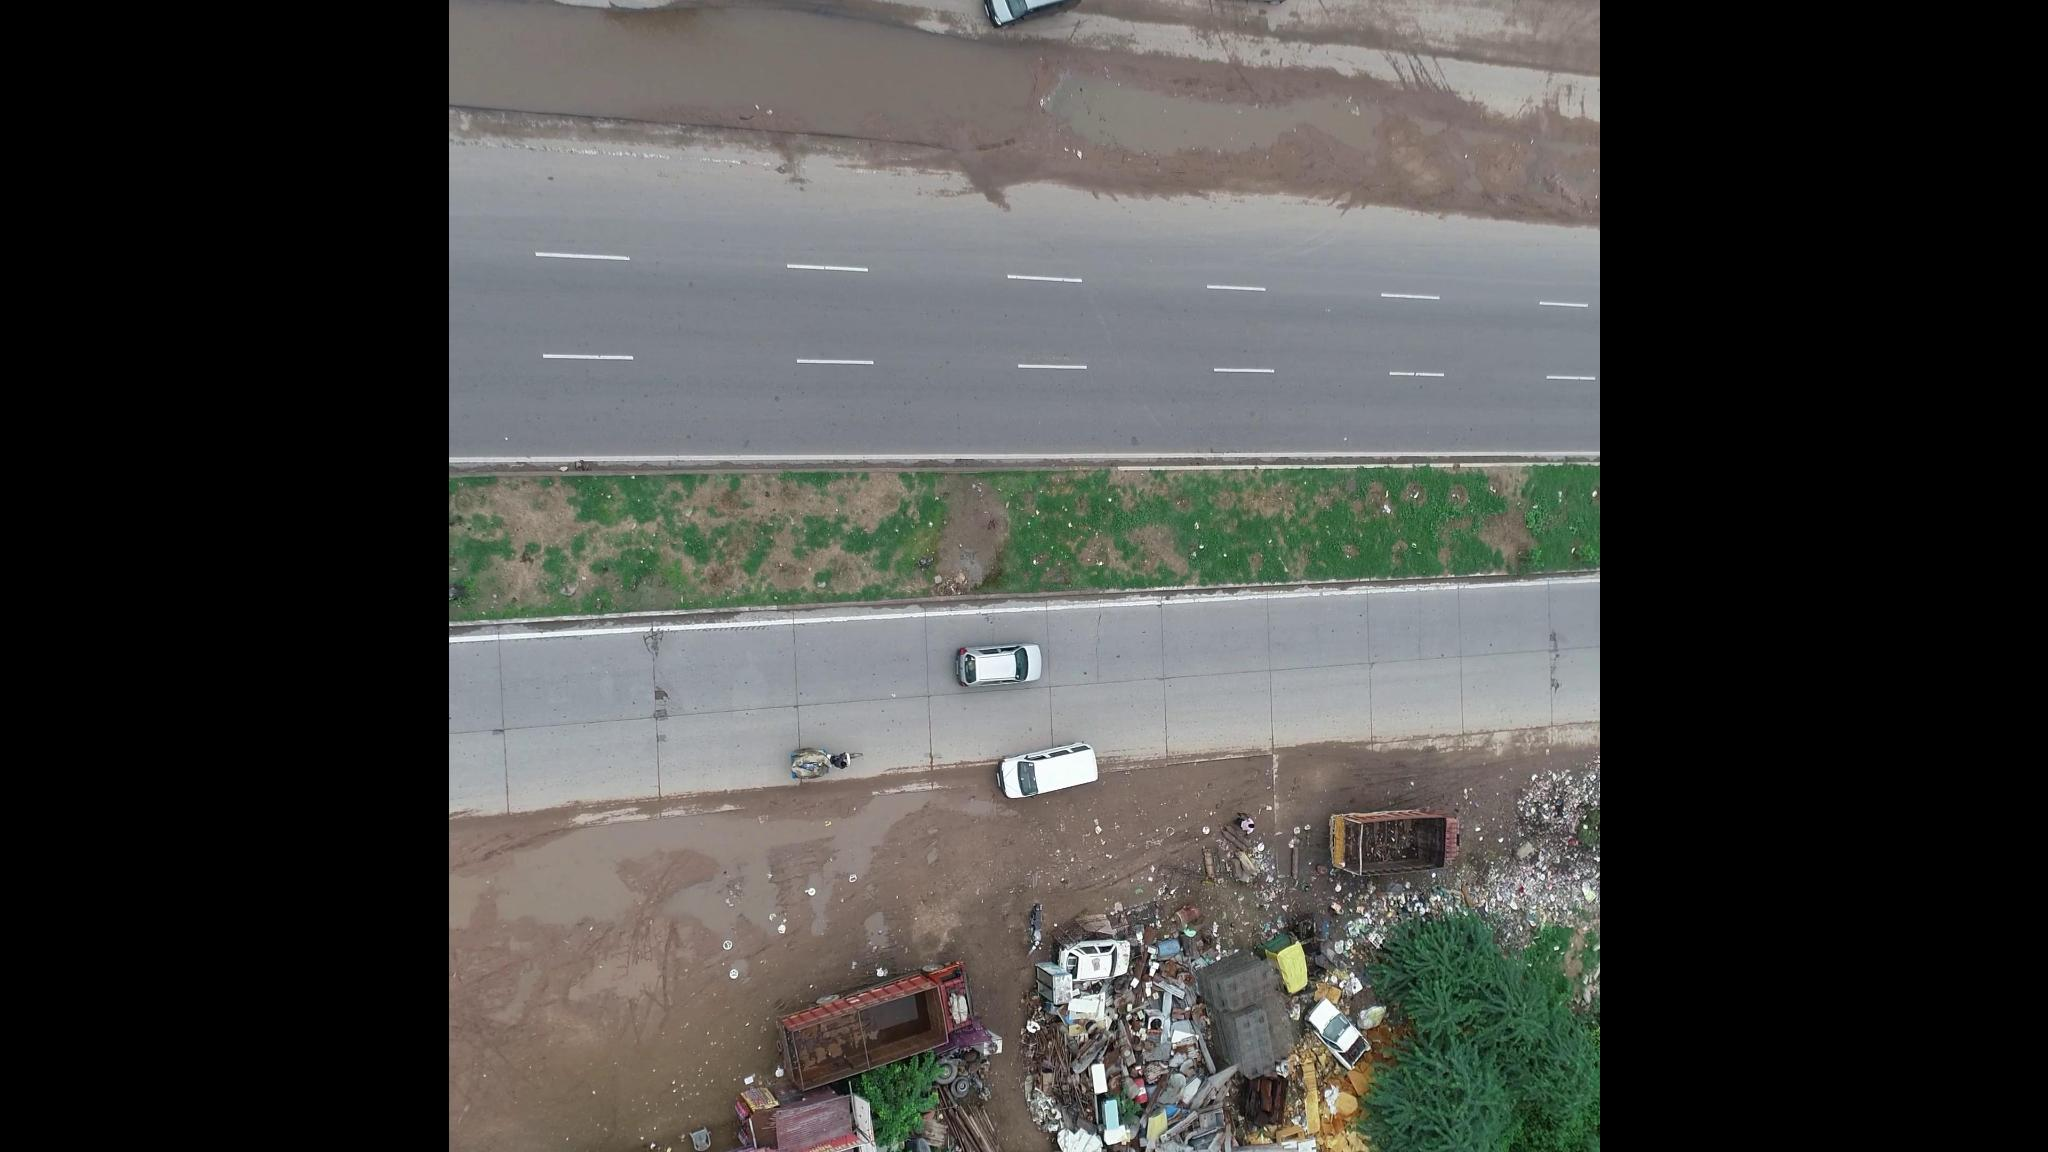Waterlogging: (453, 1, 945, 141)
